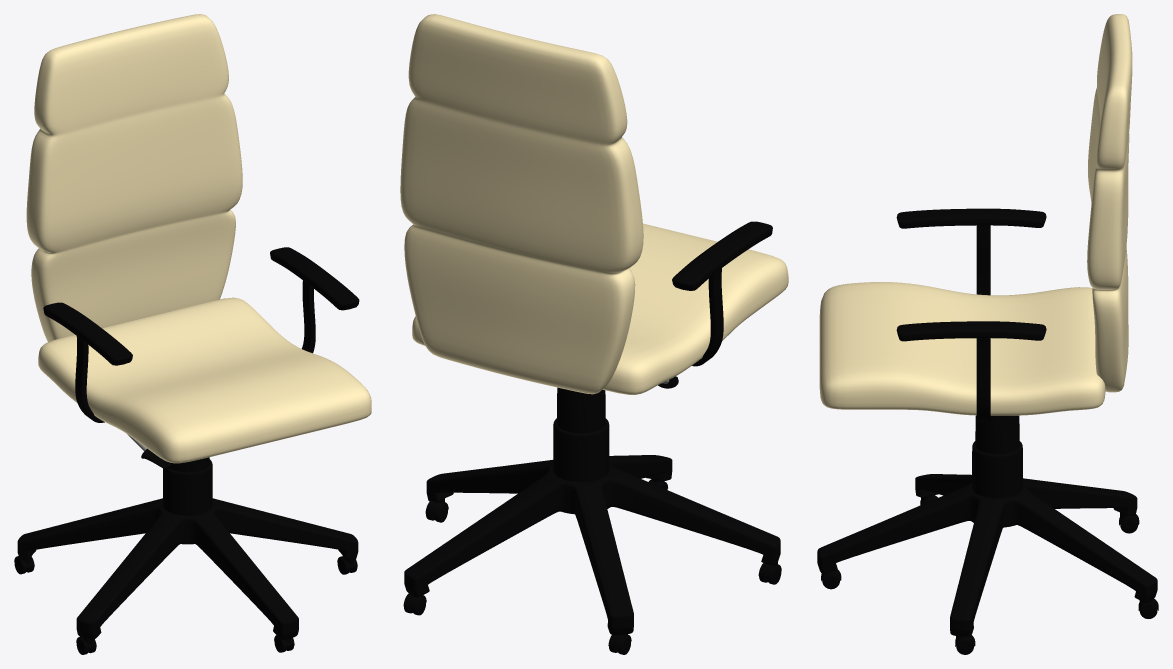
Rendered from Chair.fbx.
3 views of the same model, side by side, from view 1: azimuth 30°, elevation 25°; view 2: azimuth 150°, elevation 25°; view 3: azimuth 270°, elevation 25° (orthographic). The views are drawn at different scales.
Visible parts, largest first — view 1: under; view 2: under; view 3: under.
Boxes of the visible parts, bbox=[...] form: under: bbox=[14, 14, 371, 654]; under: bbox=[400, 14, 788, 654]; under: bbox=[817, 14, 1158, 654].
Bounding box in the file's own units: 8.03 × 13.6 × 7.93.
